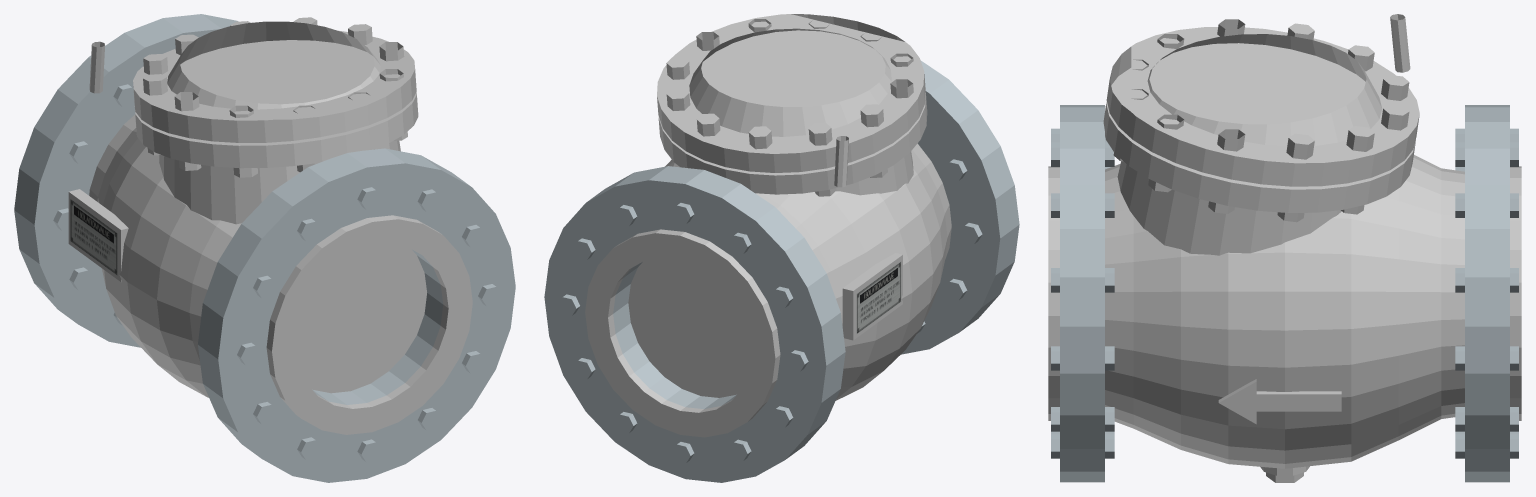
Rendered from cell_0.obj.
The picture shows the model from 3 angles, left to right: view 1: azimuth 30°, elevation 25°; view 2: azimuth 150°, elevation 25°; view 3: azimuth 270°, elevation 25°; orthographic projection. The views are drawn at different scales.
Bounding box in the file's own units: 0.8 × 0.925 × 1.
